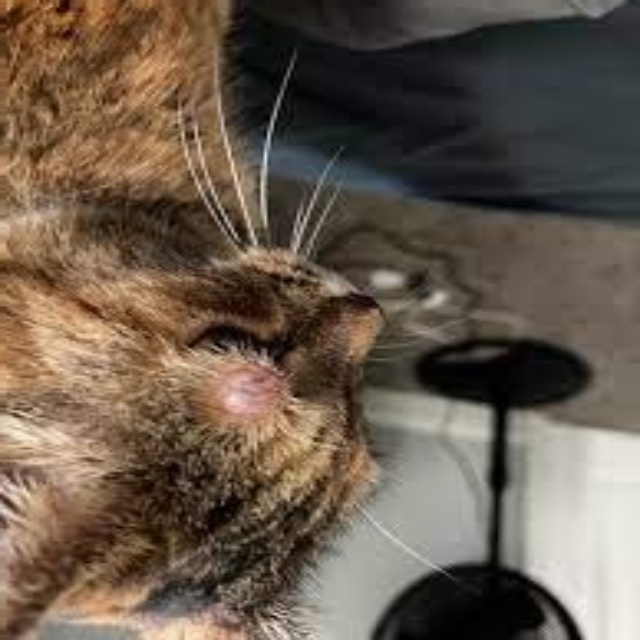lump_and_bump: (215, 358, 297, 428)
